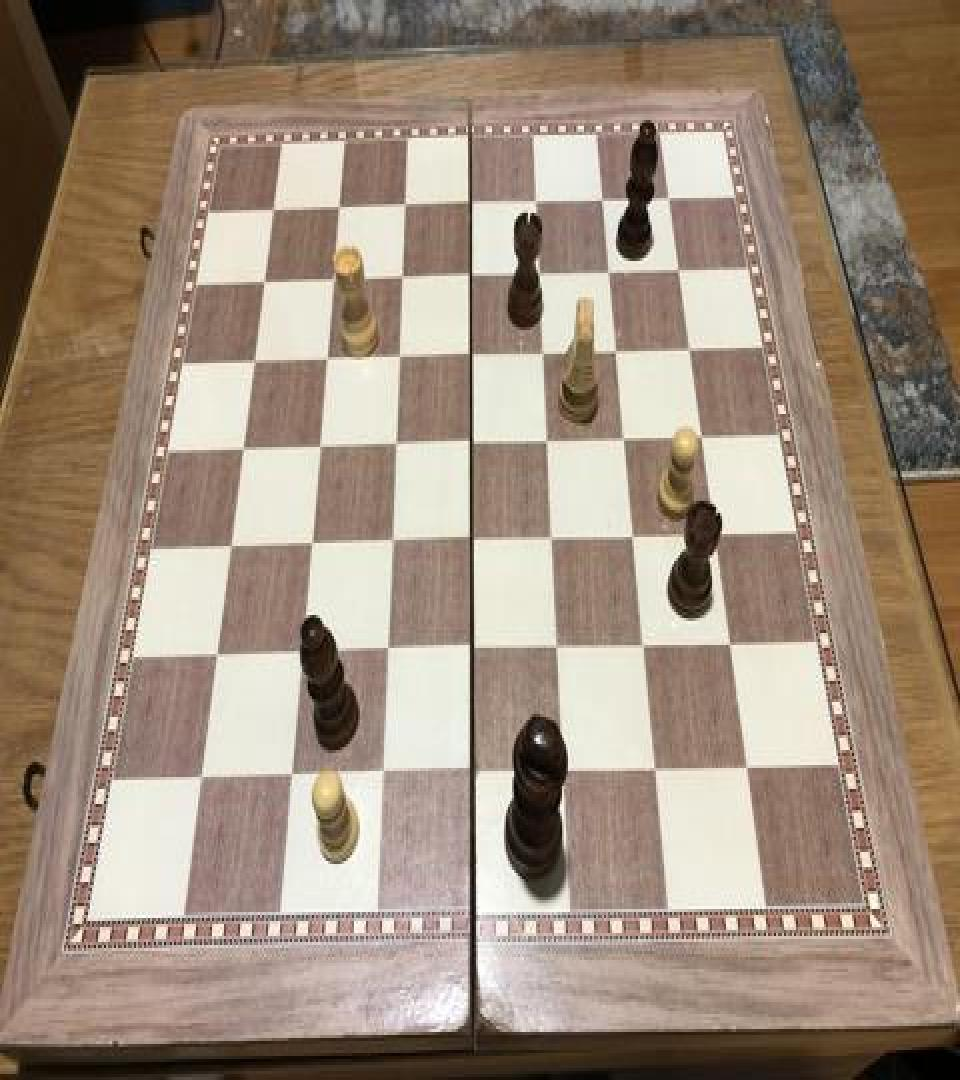xcorner: (541, 520, 565, 557), (461, 631, 485, 668), (645, 748, 669, 785), (656, 183, 680, 219), (590, 184, 614, 220), (458, 190, 482, 226), (392, 192, 416, 228), (327, 195, 351, 231), (262, 198, 286, 234), (666, 254, 690, 290), (596, 256, 620, 292), (527, 258, 551, 294), (459, 261, 483, 297), (390, 264, 414, 300), (321, 266, 345, 302), (253, 268, 277, 304), (677, 332, 701, 368), (604, 334, 628, 370), (532, 338, 556, 374), (459, 339, 483, 375), (387, 342, 411, 378), (315, 345, 339, 381), (243, 346, 267, 382), (689, 418, 713, 454), (613, 422, 637, 458), (536, 424, 560, 460), (460, 426, 484, 462), (384, 429, 408, 465), (308, 432, 332, 468), (232, 434, 256, 470), (703, 516, 727, 552), (622, 518, 646, 554), (460, 524, 484, 560), (380, 525, 404, 561), (300, 528, 324, 564), (220, 531, 244, 567), (719, 624, 743, 660), (633, 627, 657, 663), (547, 628, 571, 664), (376, 634, 400, 670), (291, 636, 315, 672), (206, 639, 230, 675), (736, 746, 760, 782), (553, 752, 577, 788), (462, 753, 486, 789), (371, 756, 395, 792), (281, 759, 305, 795), (191, 760, 215, 796), (524, 188, 548, 223)
